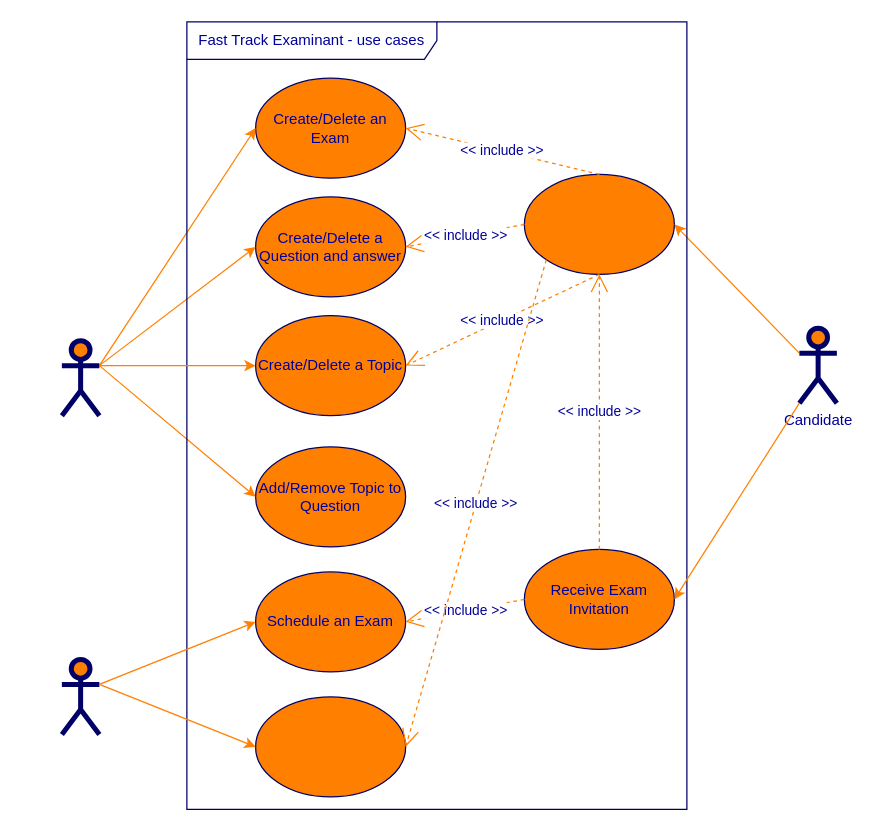
The diagram is 874 pixels wide and 831 high, and some of its shapes have lost their labels. Each missing label, with the centre of its shape:
"Admin (HR)" belongs at (x=80, y=696).
"Admin (Technical)" belongs at (x=80, y=378).
"Attend Exam" belongs at (x=598, y=223).
"Get the results of an Exam" belongs at (x=330, y=746).
